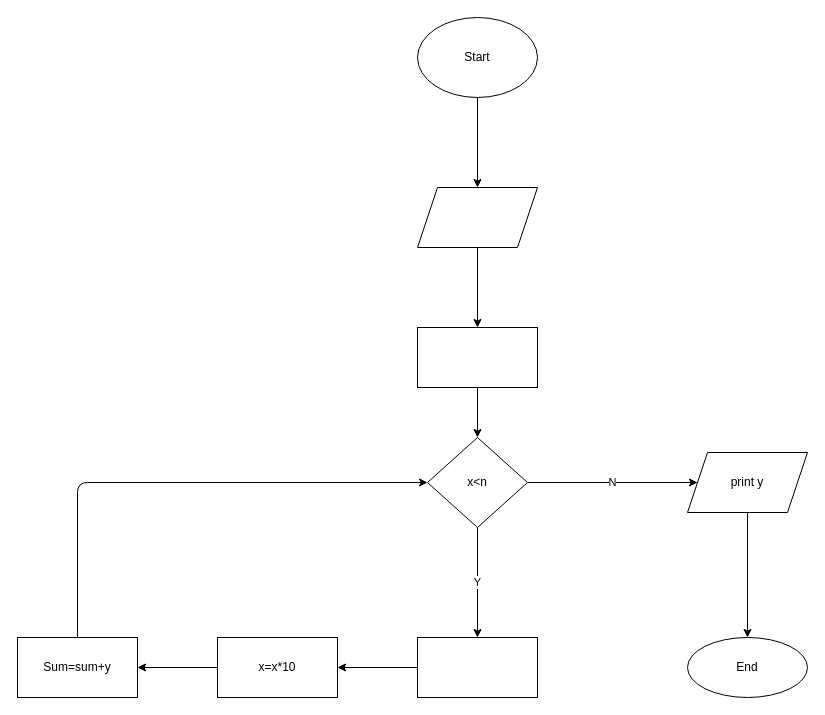
Image size: 825x715. Some labels were removed from this diagram. The shapes that lost their labels are listed below. From the top down, each one's centre as x and y in pixels, then its label:
the point at 477,217: enter n
the point at 477,357: x=1 sum=1 y=0
the point at 477,667: y=(10*x)+1
